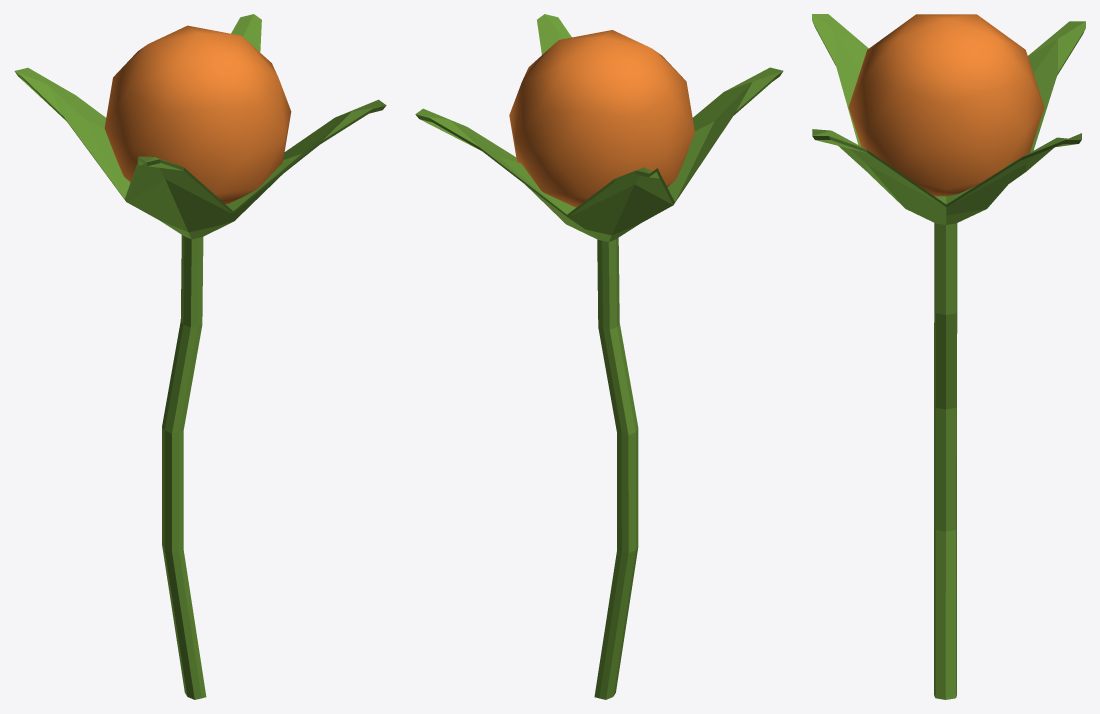
Rendered from SunStage3.fbx.
3 views of the same model, side by side, from view 1: azimuth 30°, elevation 25°; view 2: azimuth 150°, elevation 25°; view 3: azimuth 270°, elevation 25° (orthographic). The views are drawn at different scales.
Visible parts, largest first — view 1: Cylinder.007; view 2: Cylinder.007; view 3: Cylinder.007.
Part boxes in pixels (x1,y1,x2,y2): Cylinder.007: (14,14,386,699); Cylinder.007: (415,14,783,699); Cylinder.007: (812,14,1085,699).
Size of the model in its own units: 63.89 by 168 by 61.37.
